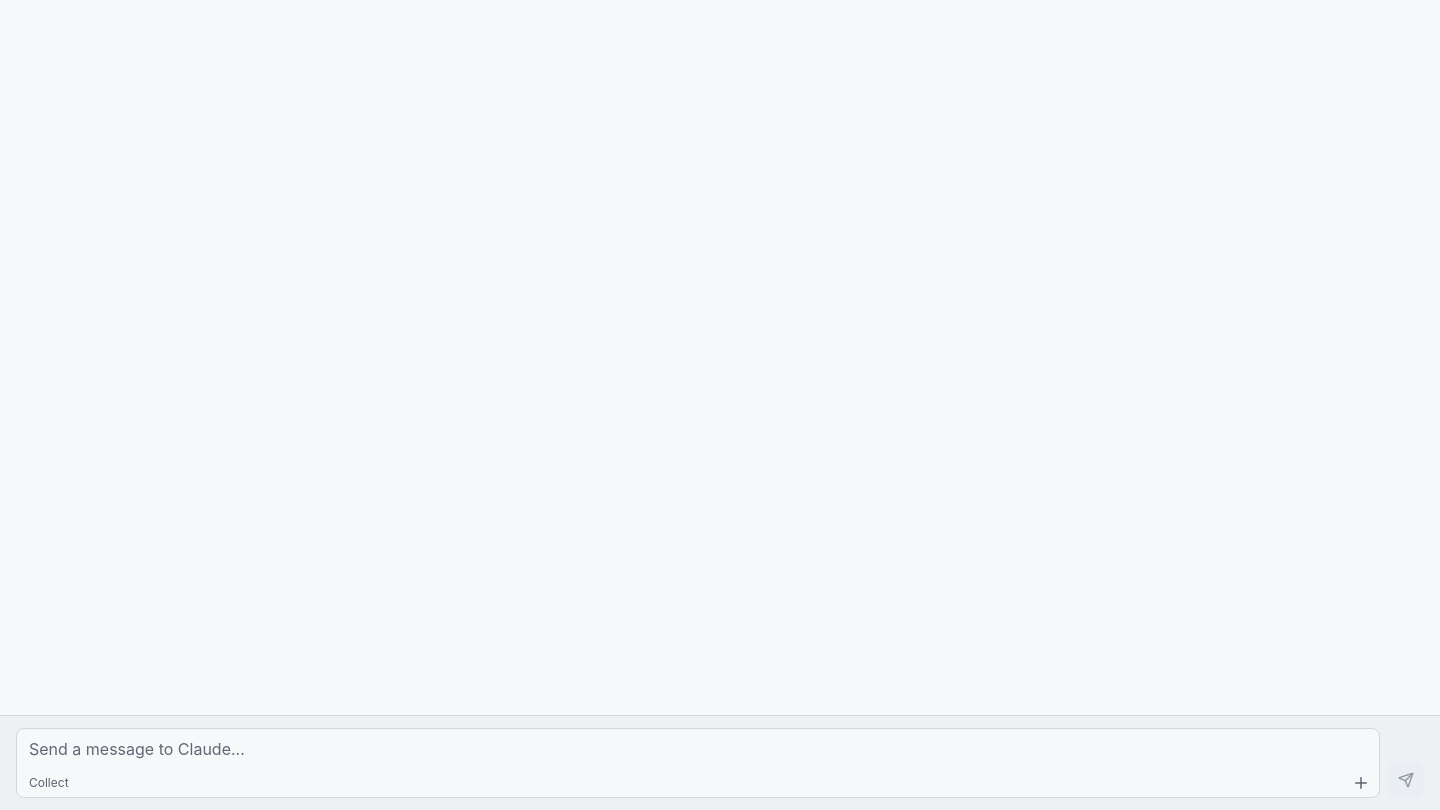
Test: 记为约定 (F4) › blank text cannot be sent
The width and height of the screenshot is (1440, 810).
Click the button named "更多": {"x": 1361, "y": 783} x1=1347 y1=769 x2=1375 y2=797
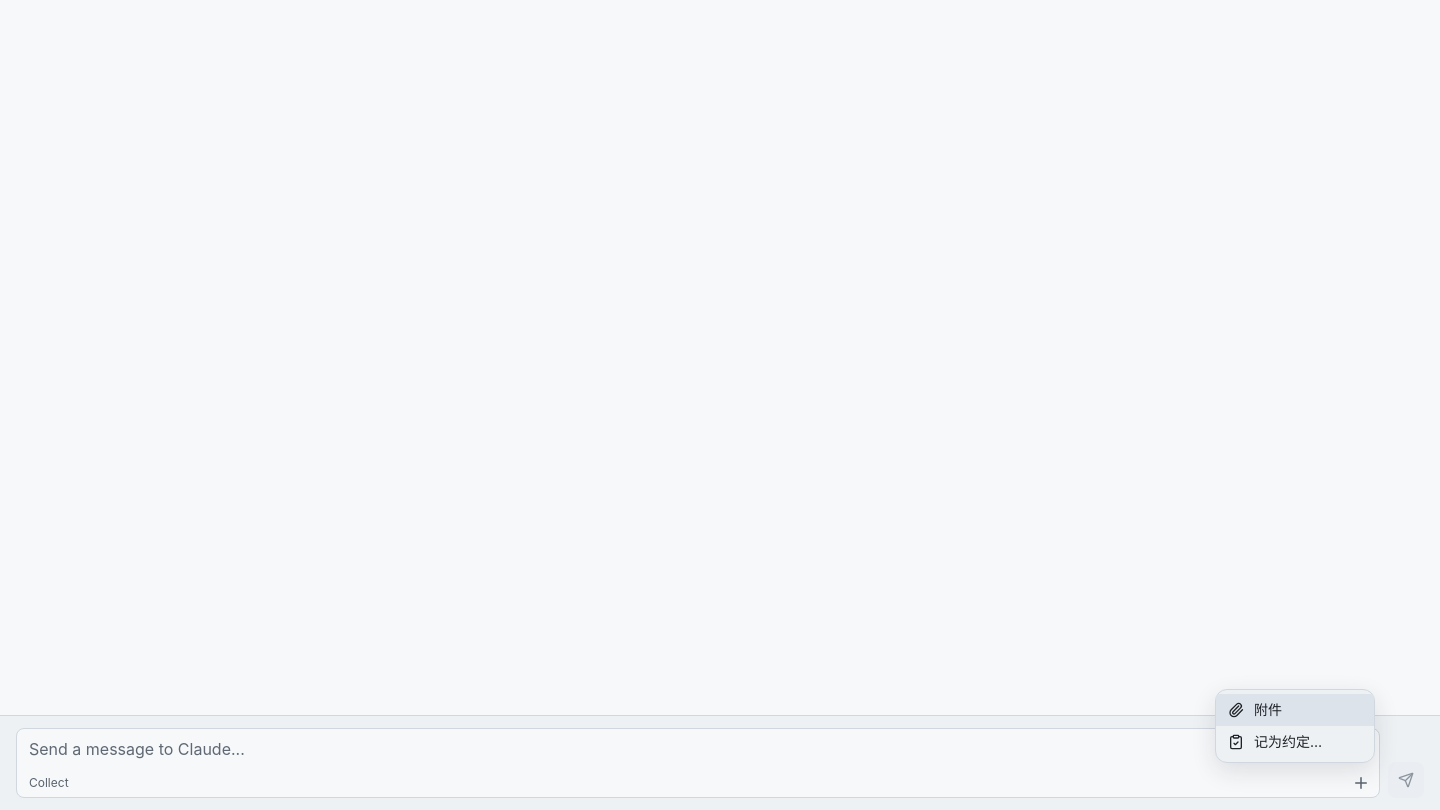
Click the menu item "记为约定…": {"x": 1295, "y": 742} x1=1216 y1=726 x2=1374 y2=758
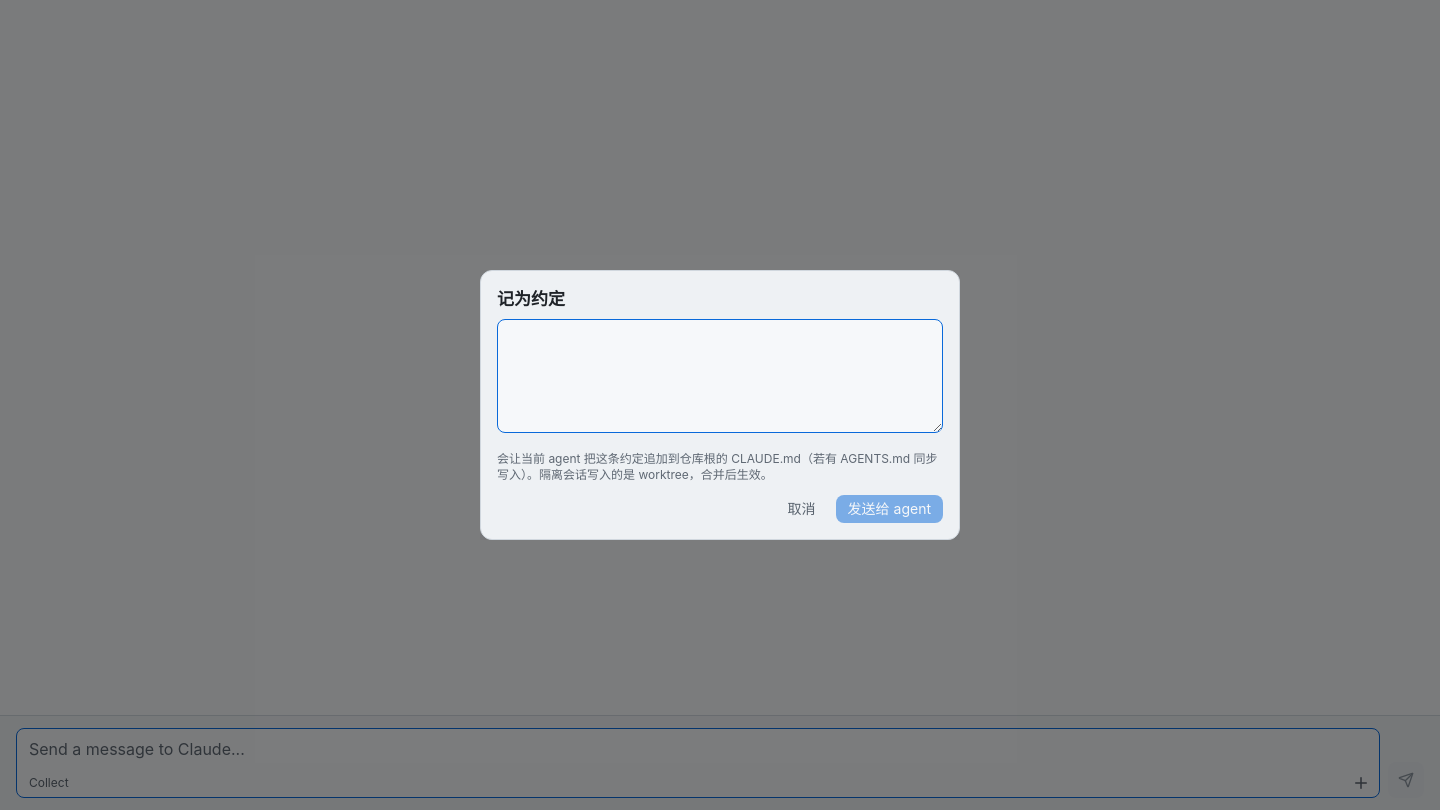
Expected: the button "发送给 agent" is disabled, x1=836 y1=495 x2=943 y2=523
